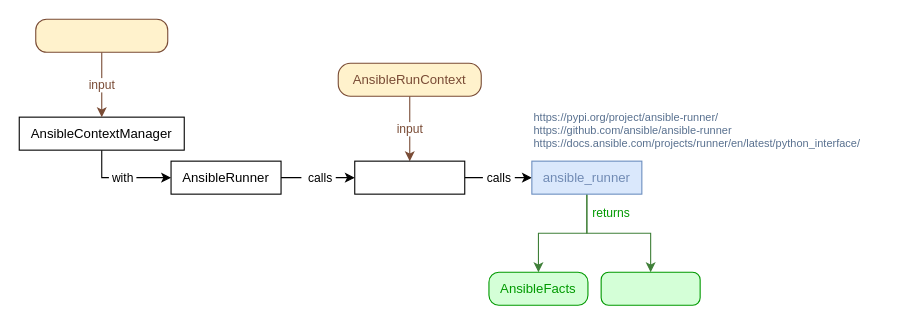
The diagram is 897 pixels wide and 325 high, and some of its shapes have lost their labels. Each missing label, with the centre of its shape:
AnsibleAccess: [409,177]
AnsibleEvent: [650,288]
AnsibleRepository: [101,35]
